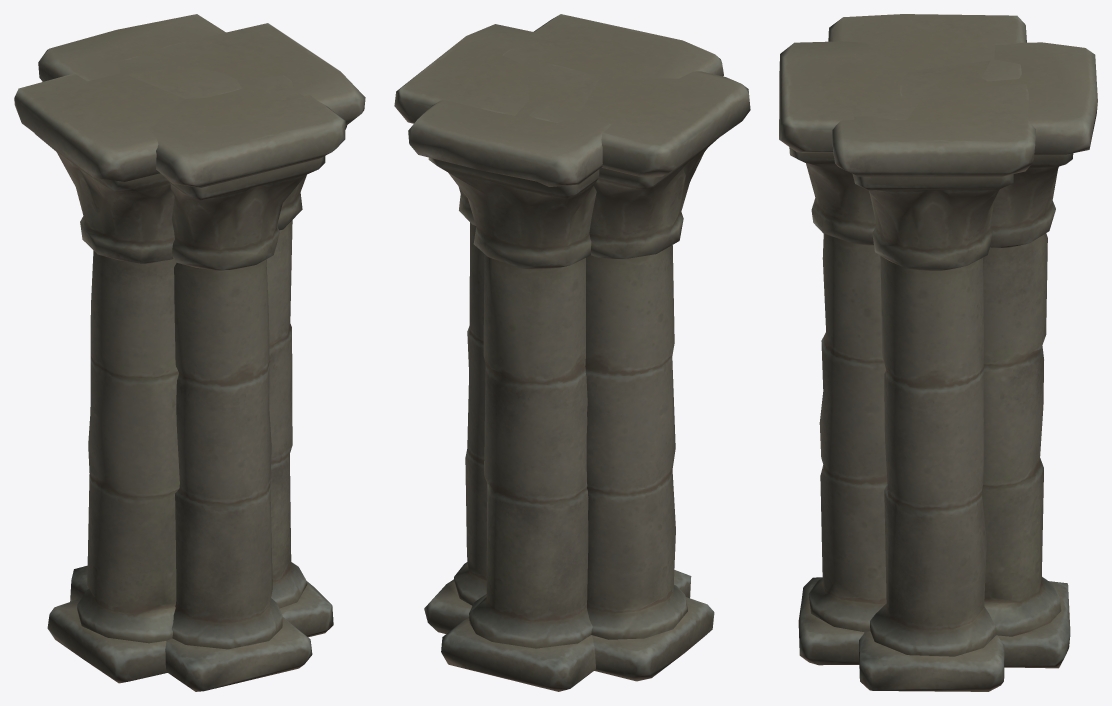
The model's file is SM_FW01_Ruins_Int_Pillar_D_1x4_01.fbx.
3 views of the same model, side by side, from view 1: azimuth 30°, elevation 25°; view 2: azimuth 150°, elevation 25°; view 3: azimuth 270°, elevation 25° (orthographic).
Parts seen in each view (by area): view 1: SM_FW01_Ruins_Int_Pillar_D_1x4_01_LOD0; view 2: SM_FW01_Ruins_Int_Pillar_D_1x4_01_LOD0; view 3: SM_FW01_Ruins_Int_Pillar_D_1x4_01_LOD0.
Boxes of the visible parts, x1,y1,x2,y2 form: SM_FW01_Ruins_Int_Pillar_D_1x4_01_LOD0: [14, 14, 365, 691]; SM_FW01_Ruins_Int_Pillar_D_1x4_01_LOD0: [394, 14, 750, 691]; SM_FW01_Ruins_Int_Pillar_D_1x4_01_LOD0: [779, 14, 1097, 691].
Size of what is drawn, in the model's own units: 2.09 by 4.05 by 2.09.
